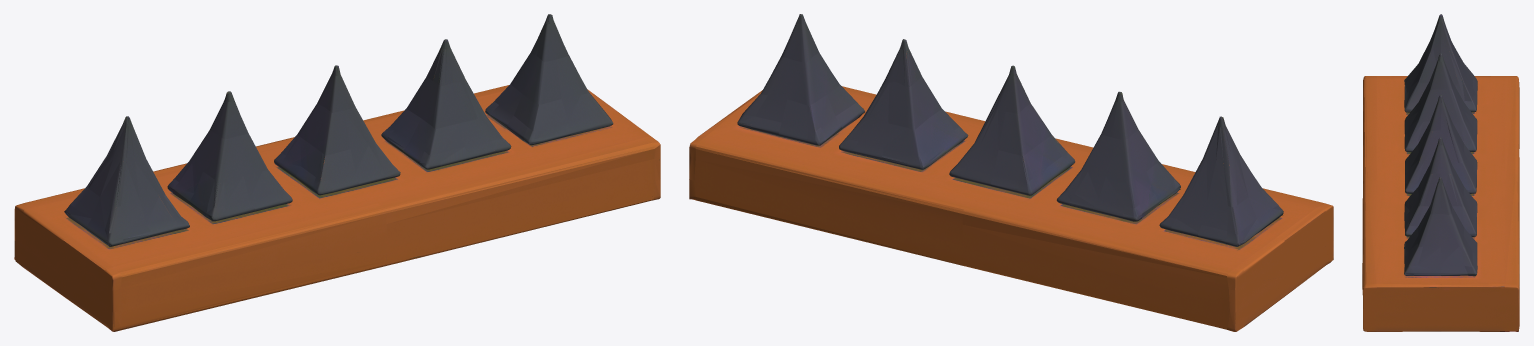
The model's file is spikeStrip.glb.
3 renders of one model, left to right at view 1: azimuth 30°, elevation 25°; view 2: azimuth 150°, elevation 25°; view 3: azimuth 270°, elevation 25°, orthographic. The views are drawn at different scales.
Size of the model in its own units: 1 by 0.2891 by 0.3145.
1 material, 1 textured.
